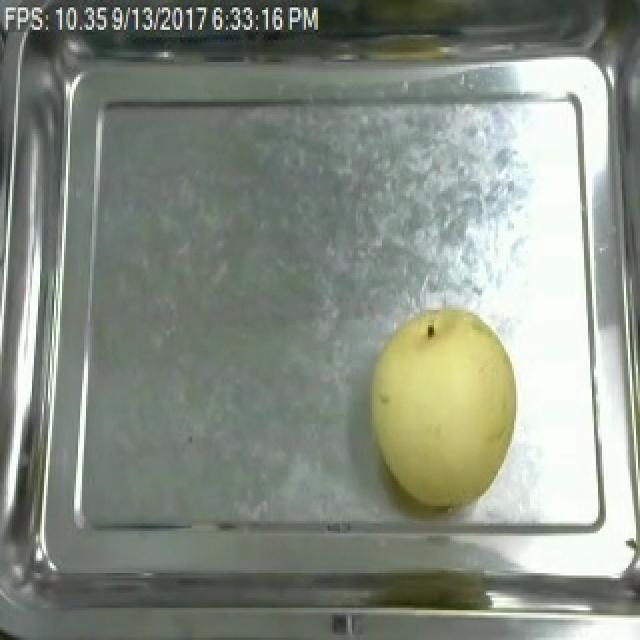Fruit: (358, 295, 528, 511)
